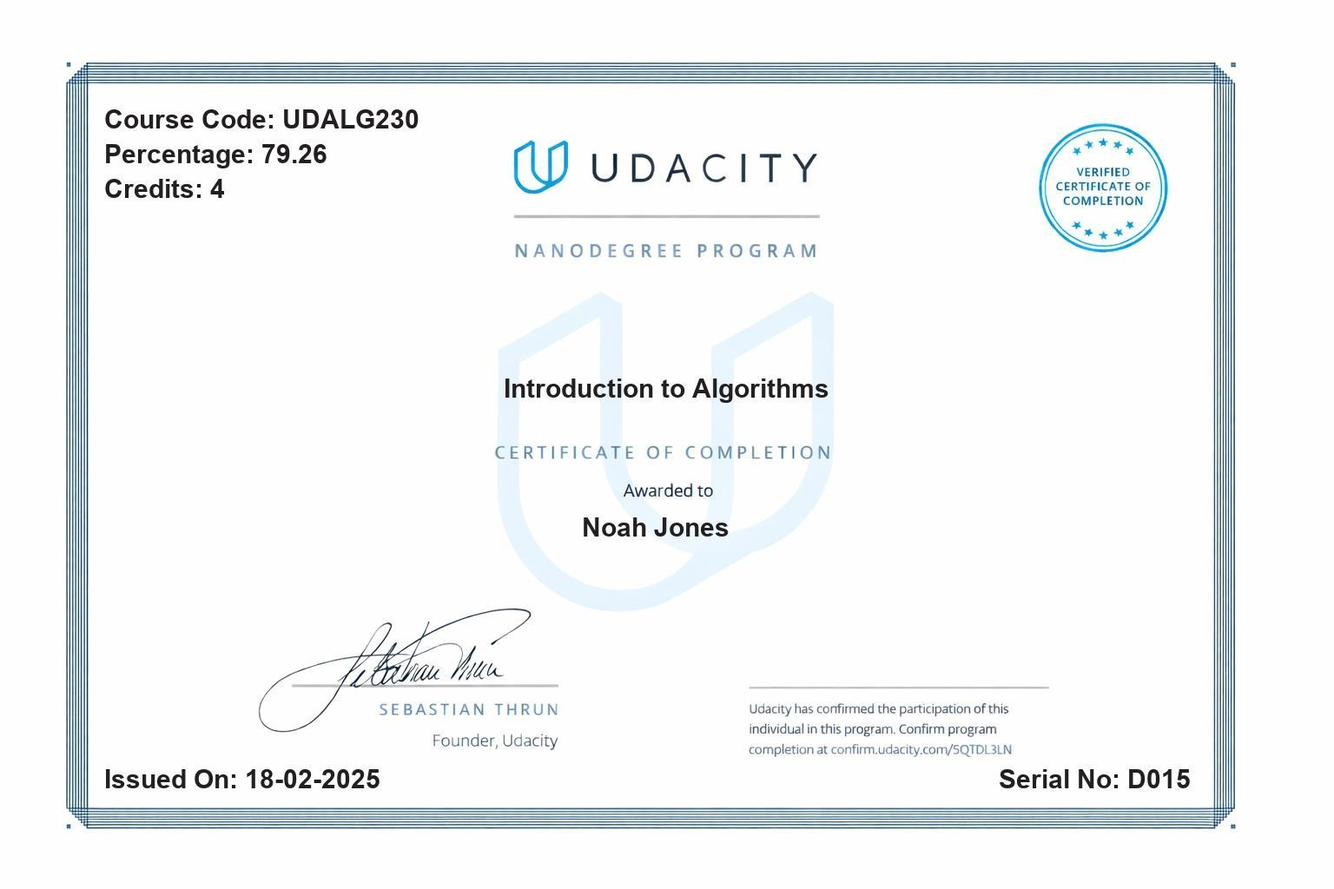Course Code: (276, 100, 444, 136)
Course Name: (494, 361, 847, 411)
Credits: (204, 174, 237, 210)
Issued On: (242, 756, 388, 807)
Percentage: (256, 135, 334, 178)
Serial No: (1122, 757, 1203, 810)
Student Name: (573, 508, 732, 556)
